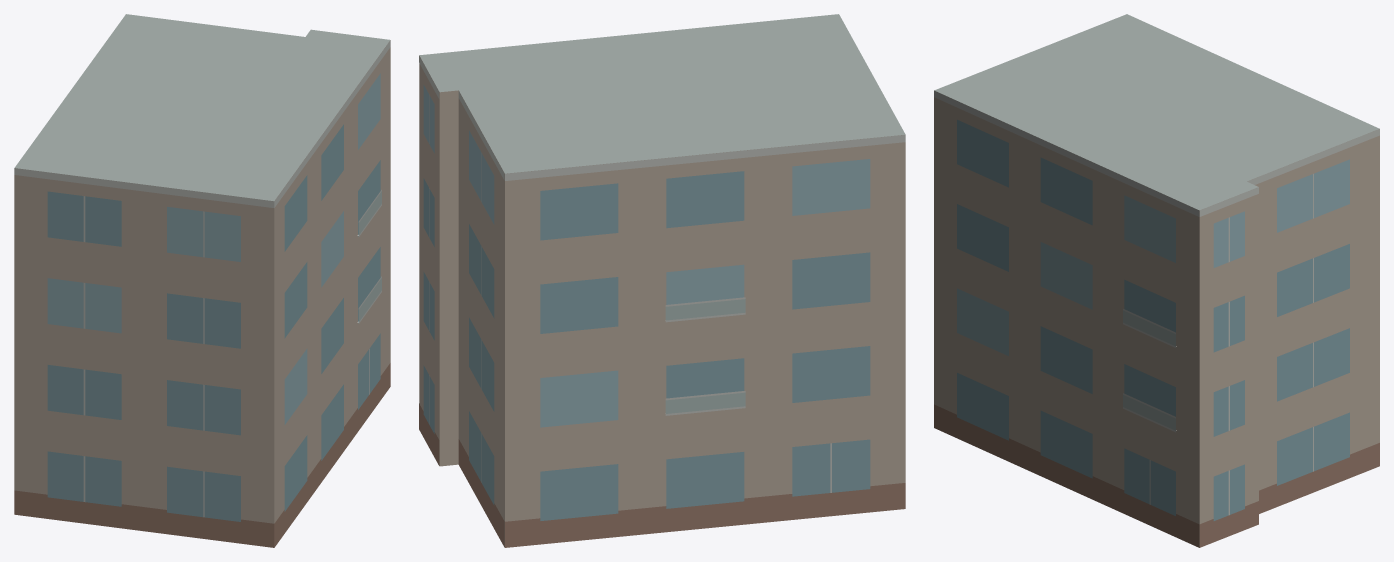
The model's file is survey-upis-33009274.glb.
3 views of the same model, side by side, from view 1: azimuth 30°, elevation 25°; view 2: azimuth 150°, elevation 25°; view 3: azimuth 270°, elevation 25° (orthographic). The views are drawn at different scales.
Visible parts, largest first — view 1: survey-upis-33009274.tmp; view 2: survey-upis-33009274.tmp; view 3: survey-upis-33009274.tmp.
Boxes of the visible parts, x1,y1,x2,y2 form: survey-upis-33009274.tmp: [14, 14, 390, 547]; survey-upis-33009274.tmp: [419, 14, 905, 547]; survey-upis-33009274.tmp: [934, 14, 1379, 547].
Bounding box in the file's own units: 15.24 × 12.2 × 14.61.
